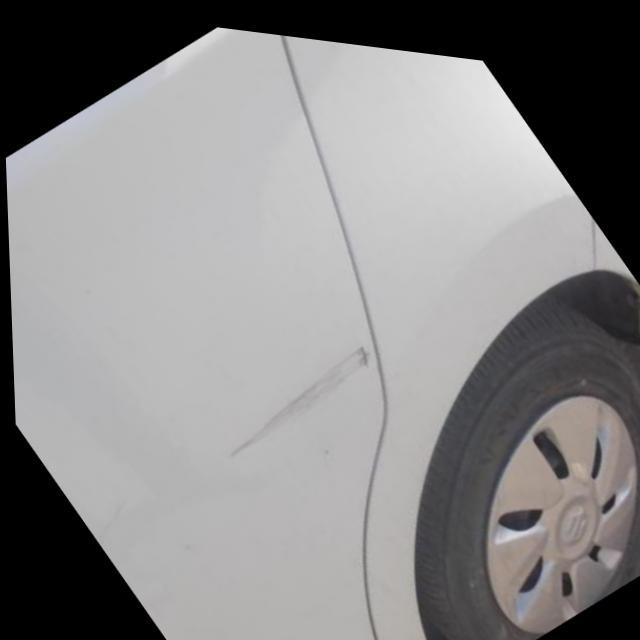scratch: (220, 329, 372, 458)
